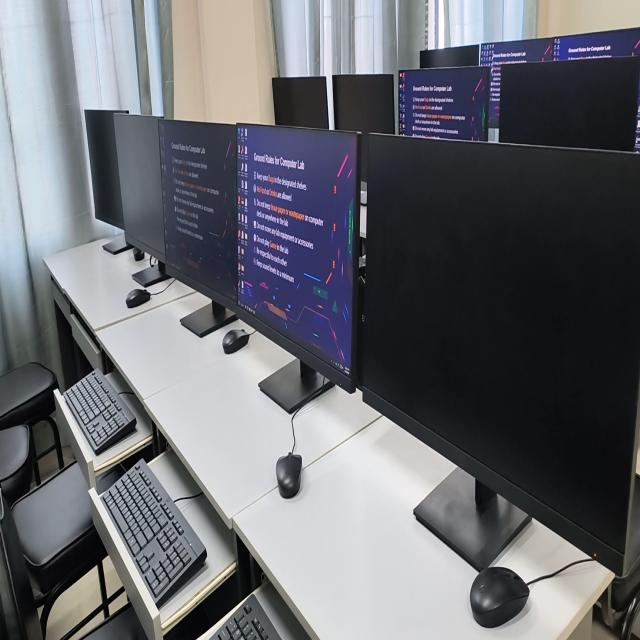Chair: (11, 461, 107, 638), (0, 362, 63, 468), (0, 494, 44, 639), (0, 425, 33, 505), (81, 603, 147, 639)
Keyboard: (101, 460, 207, 607), (63, 370, 136, 455), (208, 594, 282, 639)
Monitor: (357, 136, 640, 575), (237, 124, 359, 379), (158, 120, 237, 303), (499, 58, 640, 151), (113, 114, 166, 262), (399, 66, 490, 140), (480, 39, 553, 128), (85, 110, 129, 229), (333, 75, 395, 135), (470, 567, 529, 628), (272, 77, 329, 128), (554, 28, 640, 61), (419, 44, 479, 68), (276, 453, 302, 498)
Mouse: (470, 567, 529, 628), (276, 453, 302, 498), (222, 329, 249, 354), (126, 288, 151, 308)
